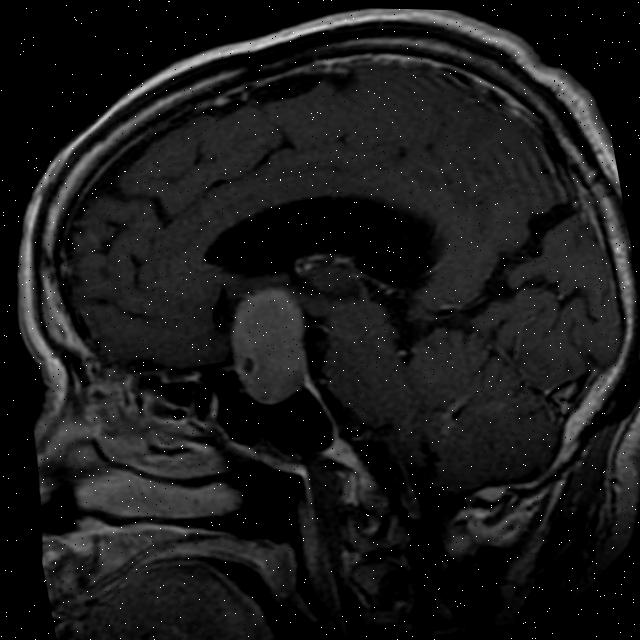Pituitary: (223, 280, 317, 409)
